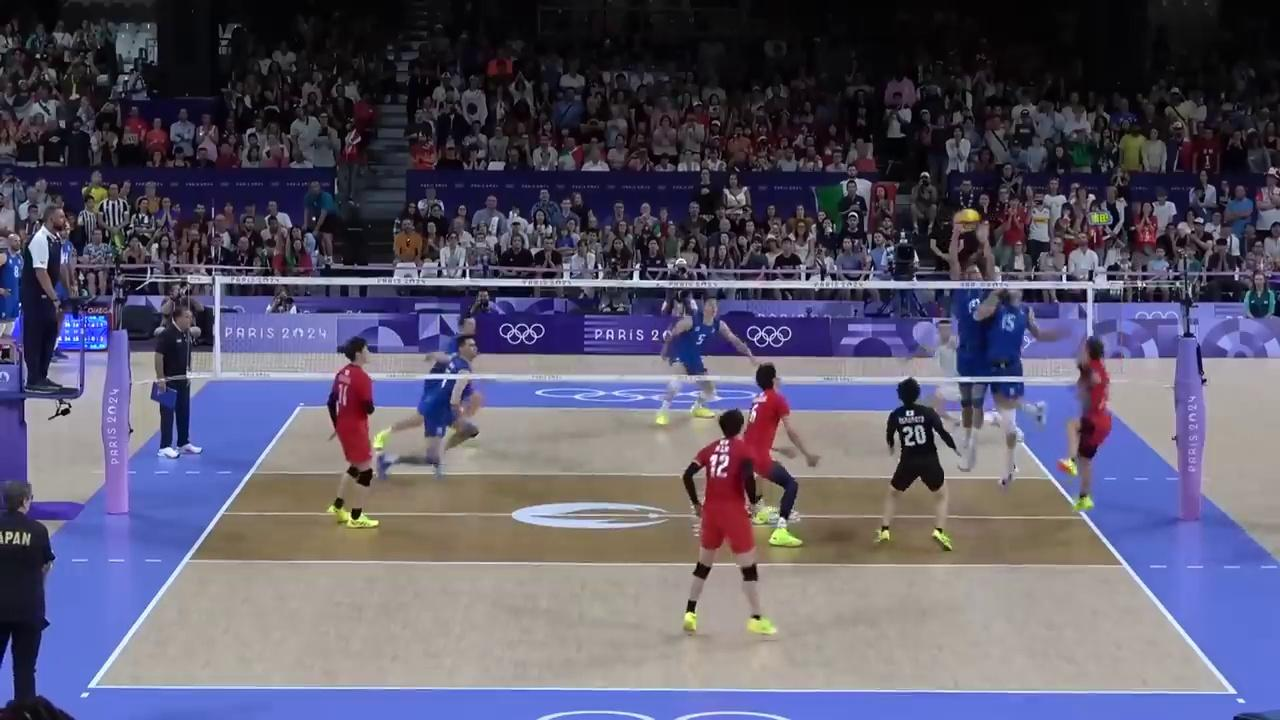ball: (956, 209, 981, 235)
